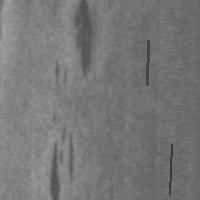inclusion: (45, 56, 76, 198), (72, 1, 96, 78), (167, 142, 173, 196), (145, 38, 150, 87)
